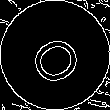O_NE: (22, 24, 88, 86)
